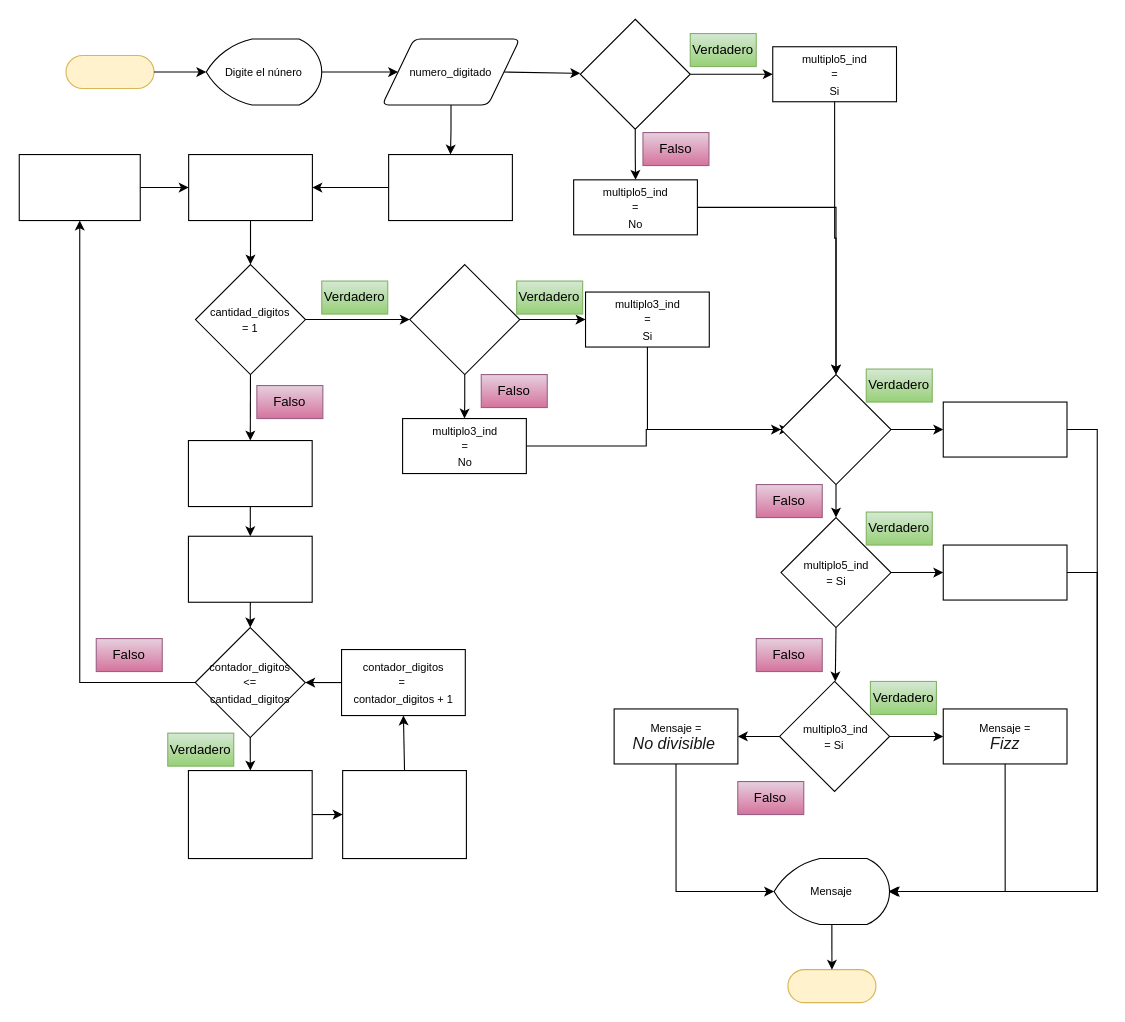
Image size: 1125x1022. Some labels were removed from this diagram. Here are the shapes that lost their labels. From the top down, the centre of each, then its label:
At [109,71]: "Inicio".
At [634,73]: "numero_digitado termina en 0 o 5".
At [79,187]: "numero_temporal = multiplo3_numero".
At [250,187]: "cantidad_digitos = longitud de numero_temporal".
At [450,187]: "numero_temporal = numero_digitado".
At [464,319]: "numero_digitado = 3,6,9".
At [835,429]: "multiplo5_ind y multiplo3_ind = Si".
At [1004,429]: "Mensaje = FizzBuzz".
At [249,473]: "multiplo3_numero = 0".
At [249,568]: "contador_digitos = 1".
At [1004,572]: "Mensaje = Buzz".
At [249,814]: "digito_extraido = posición(contador_digitos) en numero_temporal".
At [404,814]: "multiplo3_numero = multiplo3_numero + digito_extraido".
At [831,986]: "Fin".
